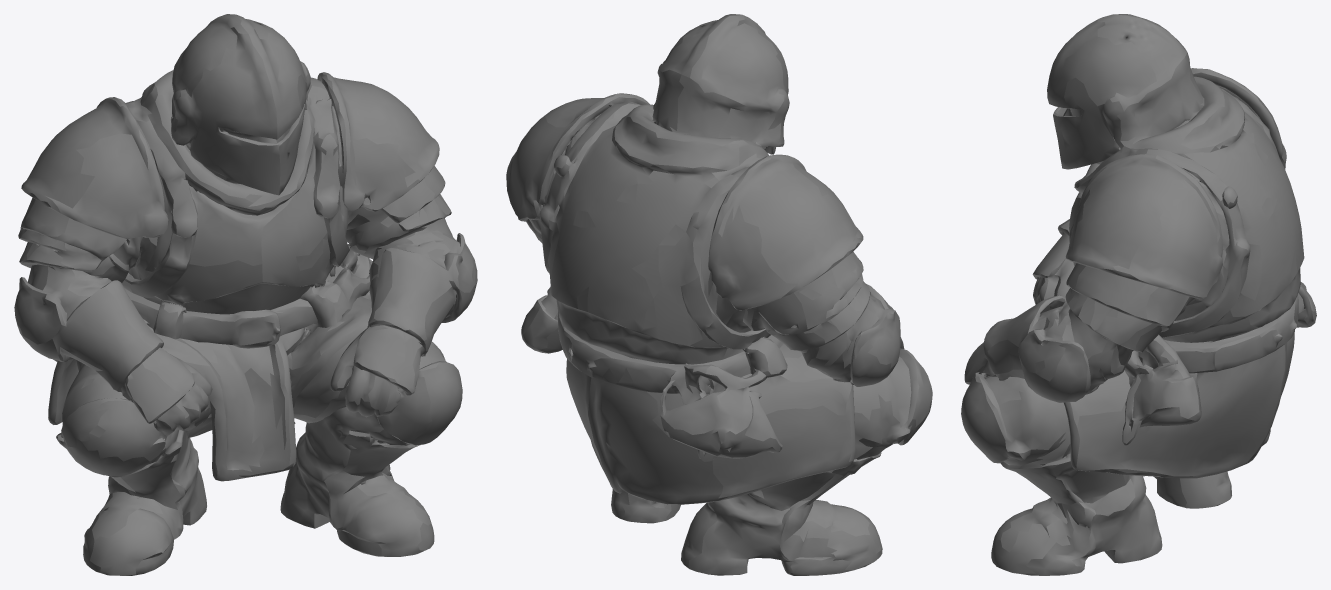
Rendered from completion_dwarf_0.glb.
3 views of the same model, side by side, from view 1: azimuth 30°, elevation 25°; view 2: azimuth 150°, elevation 25°; view 3: azimuth 270°, elevation 25° (orthographic). The views are drawn at different scales.
Parts seen in each view (by area): view 1: geometry_0; view 2: geometry_0; view 3: geometry_0.
Boxes of the visible parts, x1=… form: geometry_0: x1=14, y1=14, x2=477, y2=575; geometry_0: x1=506, y1=14, x2=932, y2=575; geometry_0: x1=961, y1=14, x2=1316, y2=575.
Size of the model in its own units: 0.808 by 1 by 0.6508.
1 material, 1 textured.
